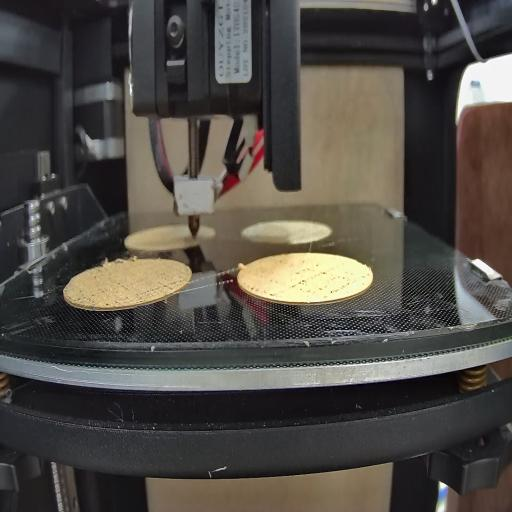under_extrusion: (287, 262, 353, 302), (78, 272, 131, 310), (245, 278, 276, 299), (152, 277, 185, 293)
